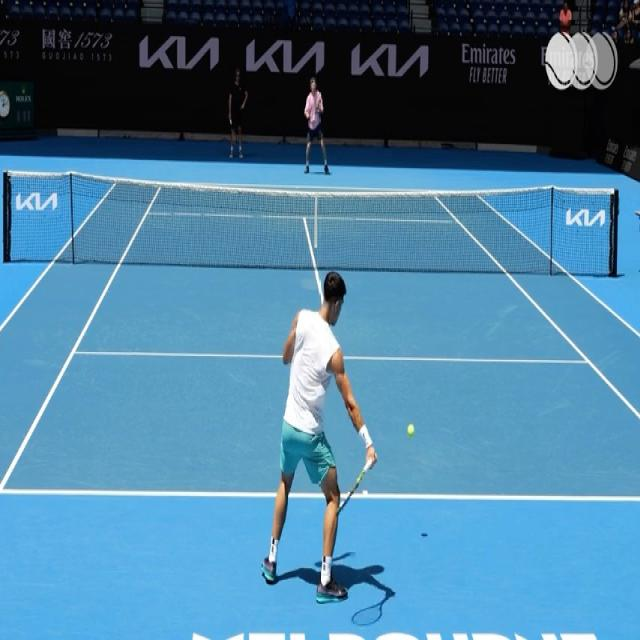forehand-ready: (264, 256, 414, 604)
